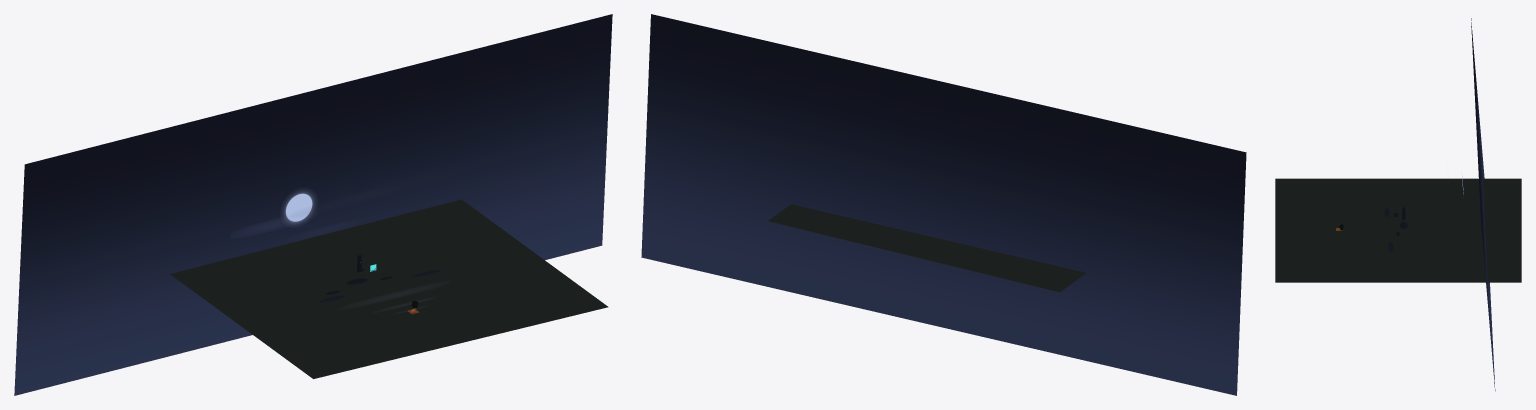
File: title_backdrop.glb
The picture shows the model from 3 angles, left to right: view 1: azimuth 30°, elevation 25°; view 2: azimuth 150°, elevation 25°; view 3: azimuth 270°, elevation 25°; orthographic projection. The views are drawn at different scales.
Visible parts, largest first — view 1: _MeshInstance3D_16, _MeshInstance3D_33, _MeshInstance3D_17; view 2: _MeshInstance3D_16, _MeshInstance3D_33; view 3: _MeshInstance3D_33, _MeshInstance3D_16.
Boxes of the visible parts, x1,y1,x2,y2 form: _MeshInstance3D_16: (14, 14, 612, 395); _MeshInstance3D_33: (170, 199, 608, 378); _MeshInstance3D_17: (284, 191, 314, 223); _MeshInstance3D_16: (641, 14, 1246, 395); _MeshInstance3D_33: (768, 204, 1085, 292); _MeshInstance3D_33: (1275, 178, 1521, 282); _MeshInstance3D_16: (1471, 18, 1495, 391).
Bounding box in the file's own units: 524 × 201 × 260.
Materials: 26 (11 with a texture image).
